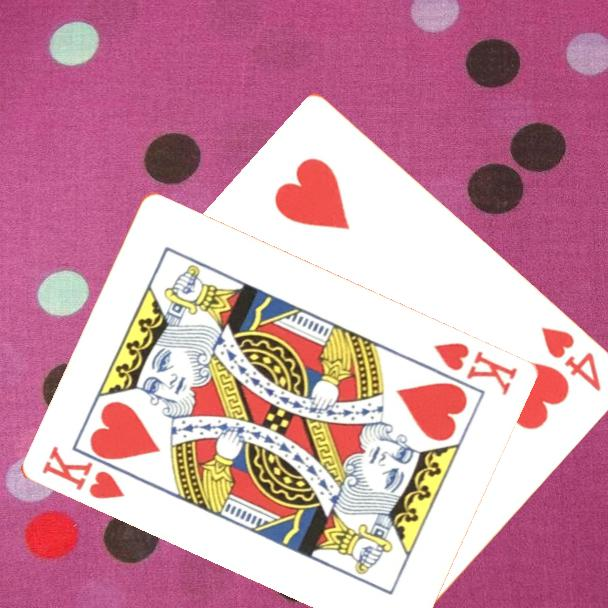h04: (538, 322, 605, 395)
h13: (37, 442, 128, 503), (429, 339, 520, 399)
